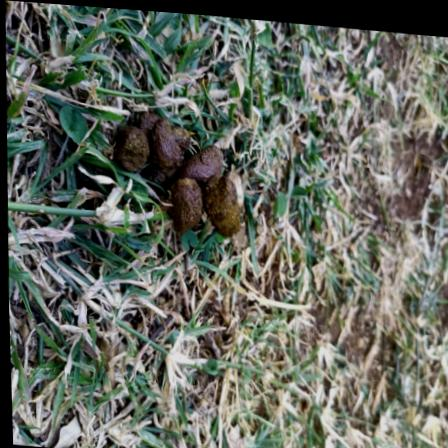dog-poop: (96, 91, 247, 243)
